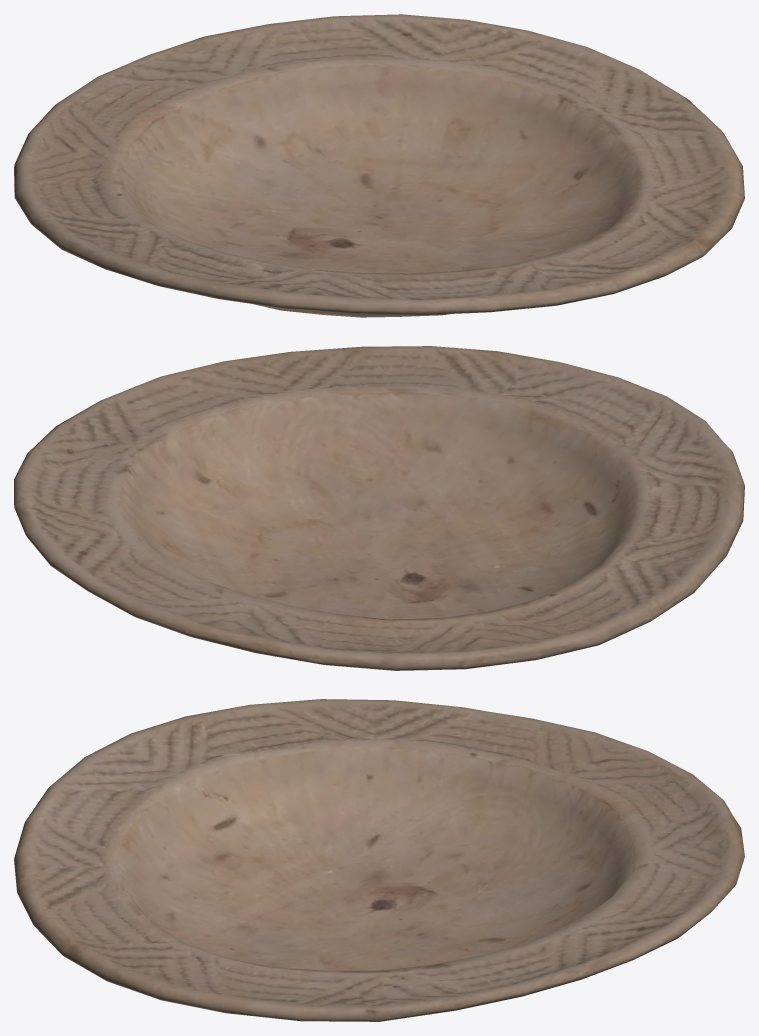
Rendered from carved-wooden-plate.glb.
The picture shows the model from 3 angles, top to bottom: view 1: azimuth 30°, elevation 25°; view 2: azimuth 150°, elevation 25°; view 3: azimuth 270°, elevation 25°; orthographic projection. The views are drawn at different scales.
Parts seen in each view (by area): view 1: carved_wooden_plate; view 2: carved_wooden_plate; view 3: carved_wooden_plate.
Part boxes in pixels (bbox=[...]): carved_wooden_plate: bbox=[14, 14, 744, 317]; carved_wooden_plate: bbox=[14, 346, 744, 670]; carved_wooden_plate: bbox=[14, 699, 744, 1021].
Size of the model in its own units: 0.2718 by 0.0381 by 0.2688.
1 material, 1 textured.
